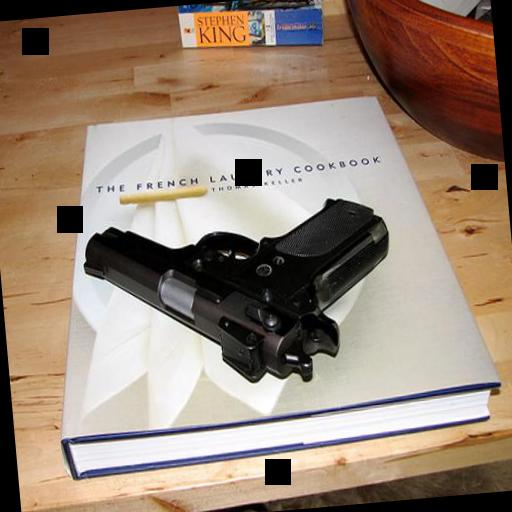Handgun: (74, 190, 398, 397)
